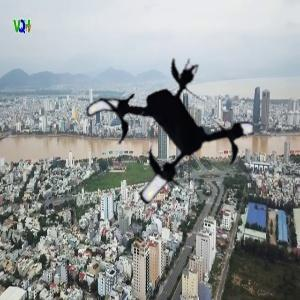drone: (81, 50, 253, 222)
